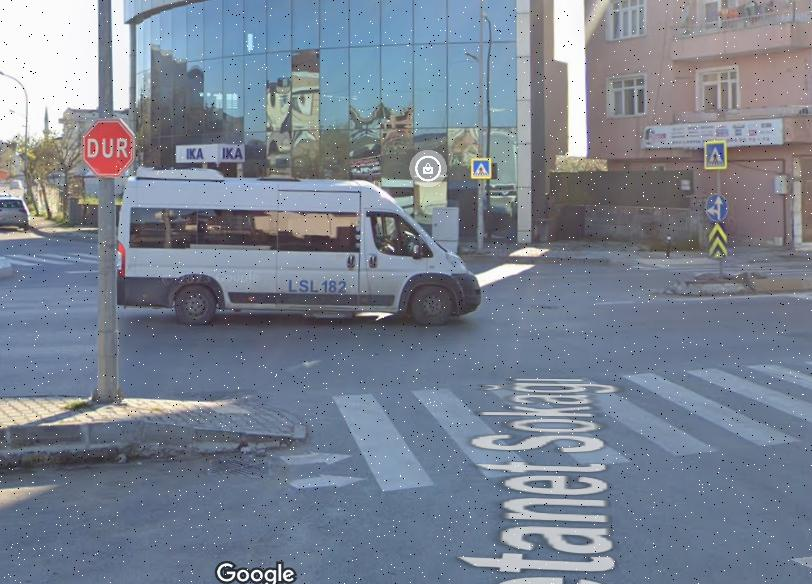stop: (85, 121, 132, 173)
